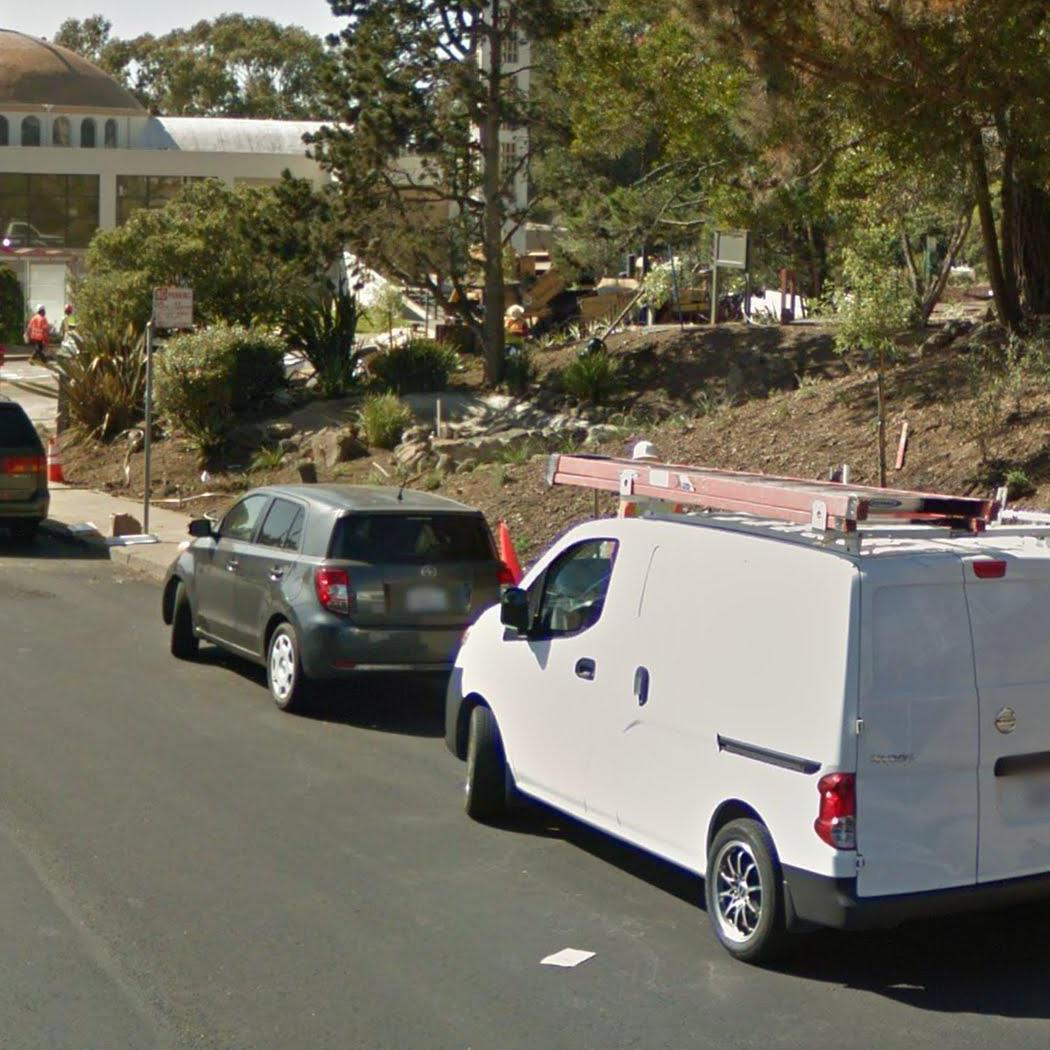No Parking: (146, 281, 199, 335)
